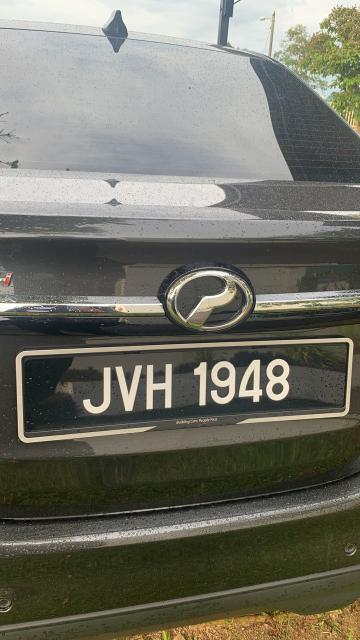License_Plate: (35, 358, 334, 422)
car: (1, 10, 360, 636)
